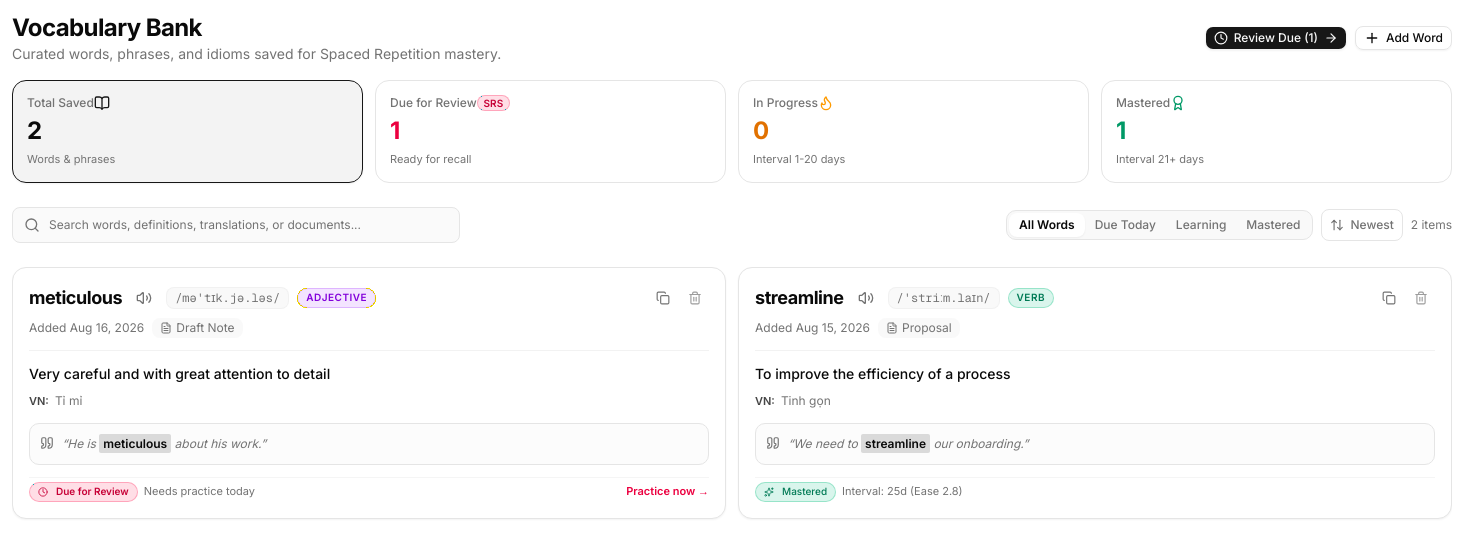
it: VocabularyBank component › filters items by SRS status tab
Step 1. Click the button "Due Today" → (1125, 224), box [1085, 212, 1166, 236]
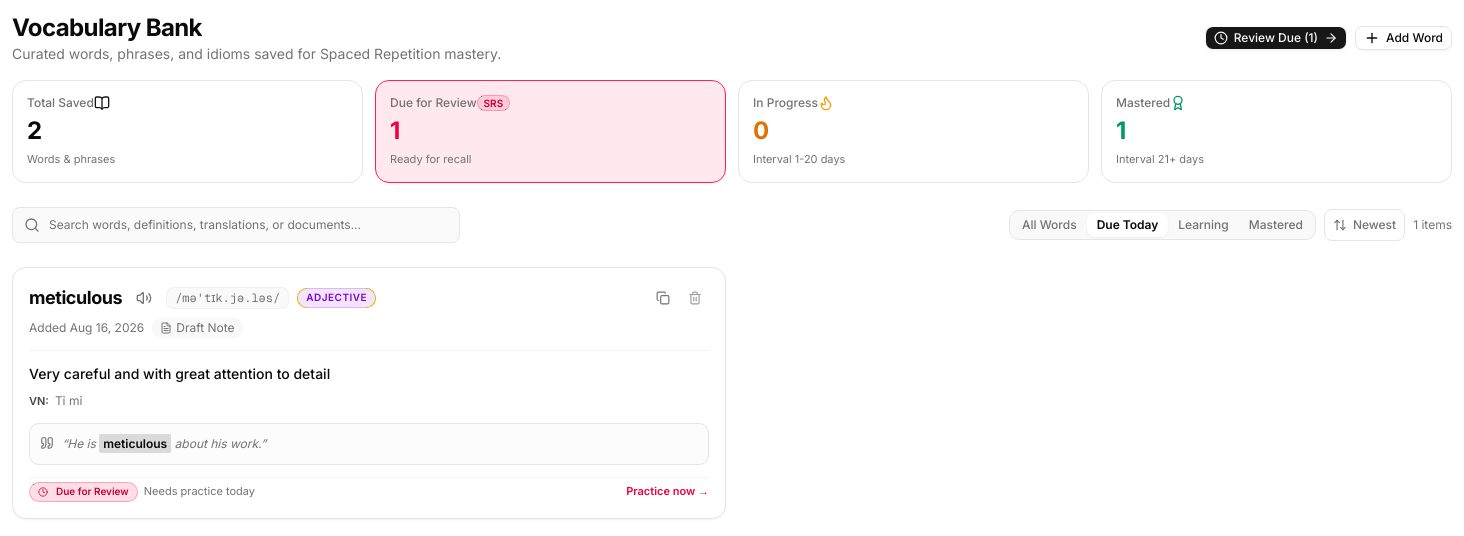
Expected: the heading "meticulous" is shown, [29, 284, 122, 312]
Now the heading "streamline" is gone
